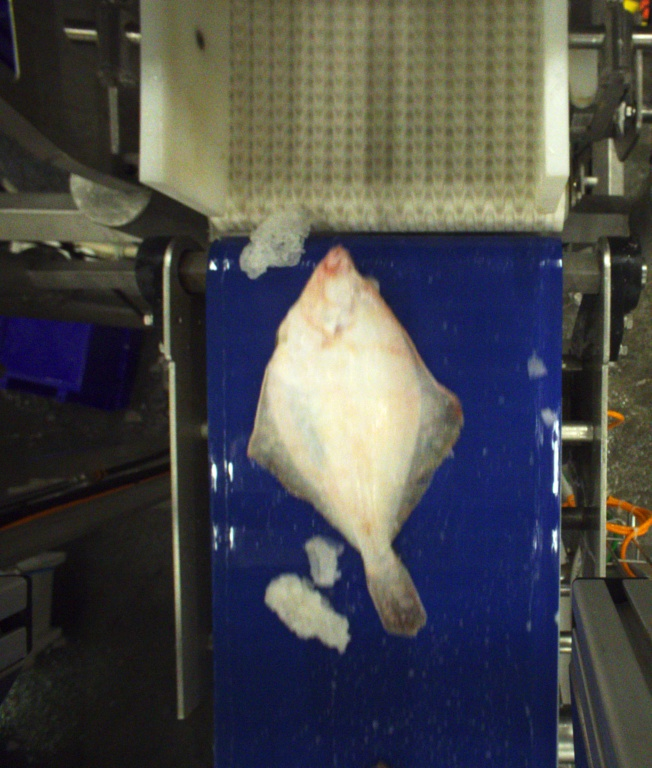PLE: (246, 246, 464, 635)
